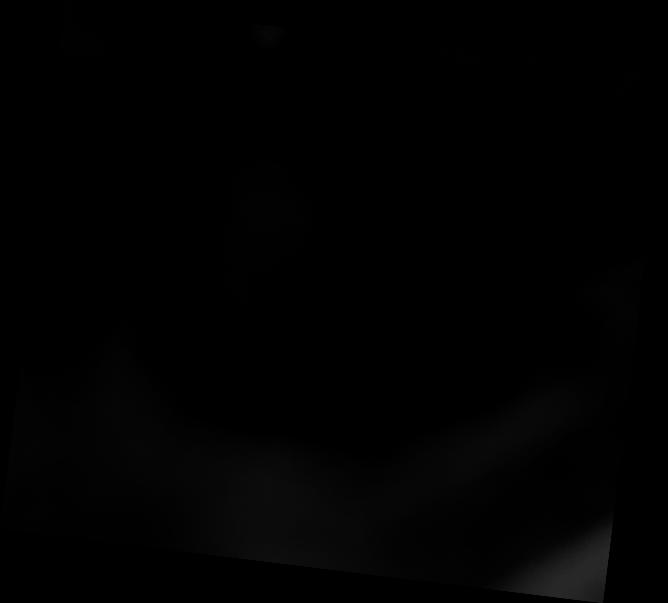dent: (0, 1, 668, 603)
